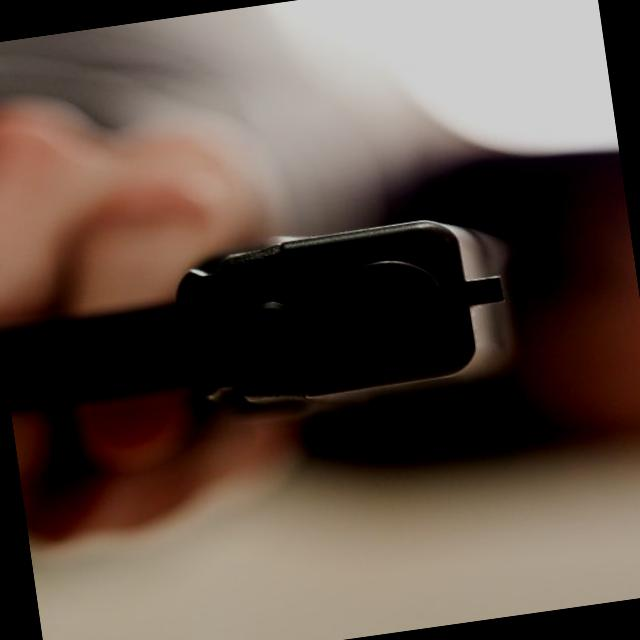handgun: (0, 195, 562, 460)
